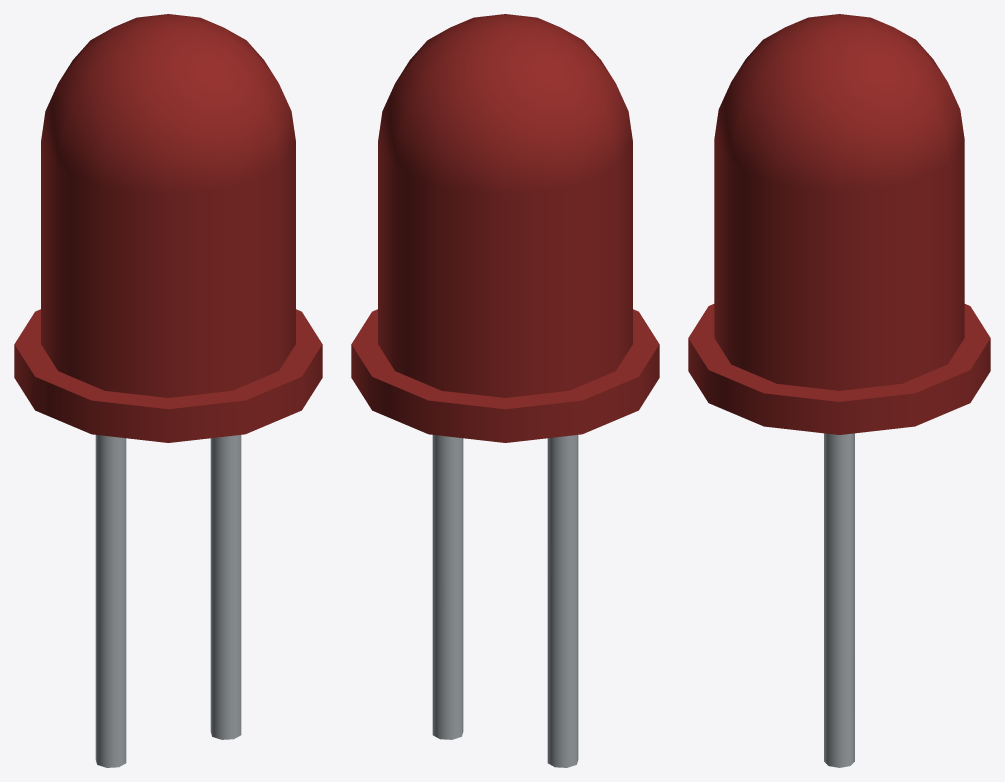
The model's file is cmp-led.glb.
The picture shows the model from 3 angles, left to right: view 1: azimuth 30°, elevation 25°; view 2: azimuth 150°, elevation 25°; view 3: azimuth 270°, elevation 25°; orthographic projection.
Parts seen in each view (by area): view 1: STATIC_paint, STATIC_metal; view 2: STATIC_paint, STATIC_metal; view 3: STATIC_paint, STATIC_metal.
Part boxes in pixels (x1,y1,x2,y2): STATIC_paint: (14,14,322,442); STATIC_metal: (95,435,241,767); STATIC_paint: (351,14,659,442); STATIC_metal: (432,435,578,767); STATIC_paint: (688,14,990,434); STATIC_metal: (824,433,854,767).
Bounding box in the file's own units: 0.0058 × 0.015 × 0.0058.
